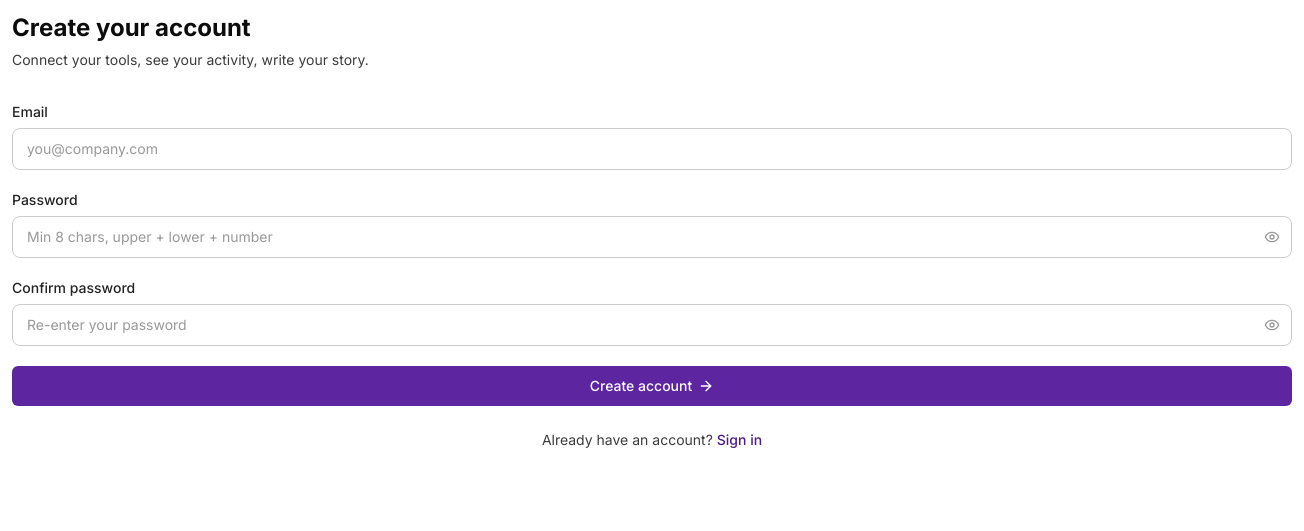
Test case: RegisterPage › Client-Side Validation › shows error when password is too short
This screenshot has width=1304, height=531.
In the field labelled "Email": (652, 149) [12, 128, 1292, 170], type "test@example.com"
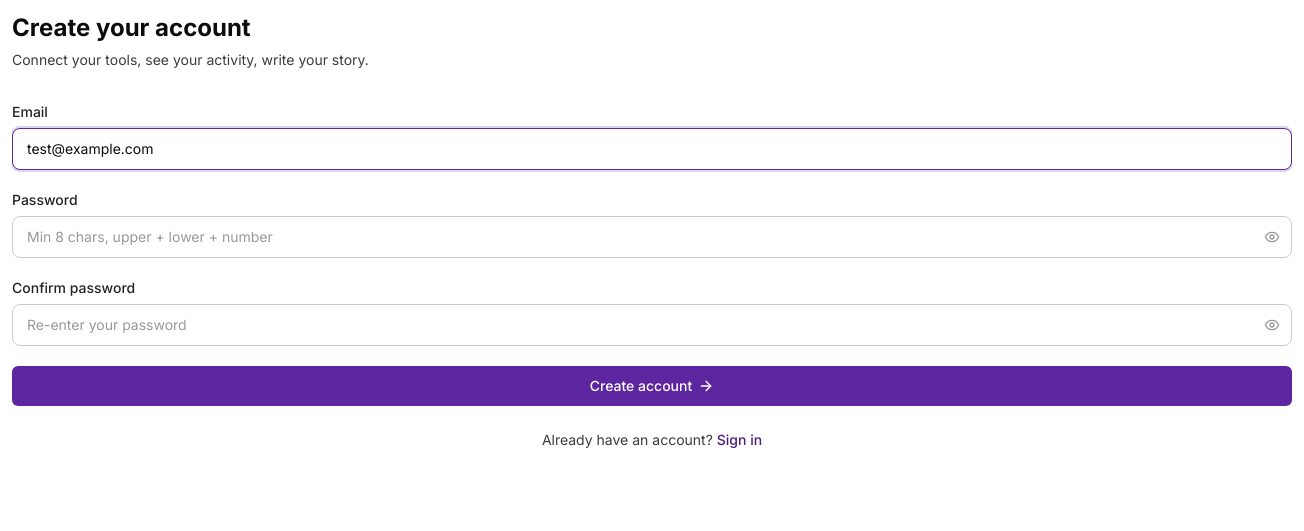
In the password field labelled "Password": (652, 237) [12, 216, 1292, 258], type "Abc1"
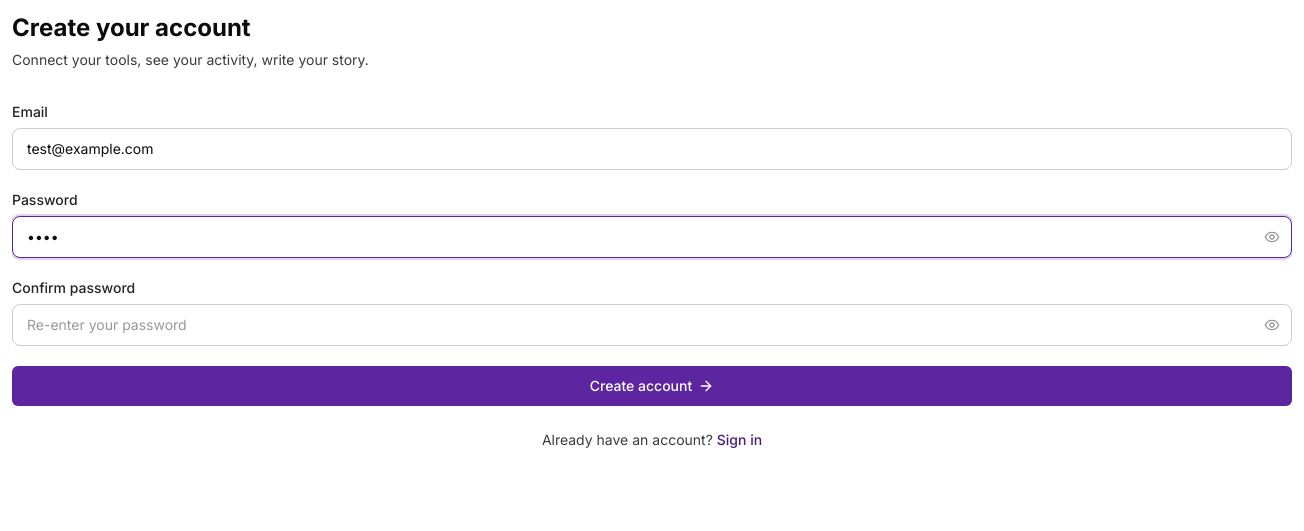
In the password field labelled "Confirm password": (652, 325) [12, 304, 1292, 346], type "Abc1"
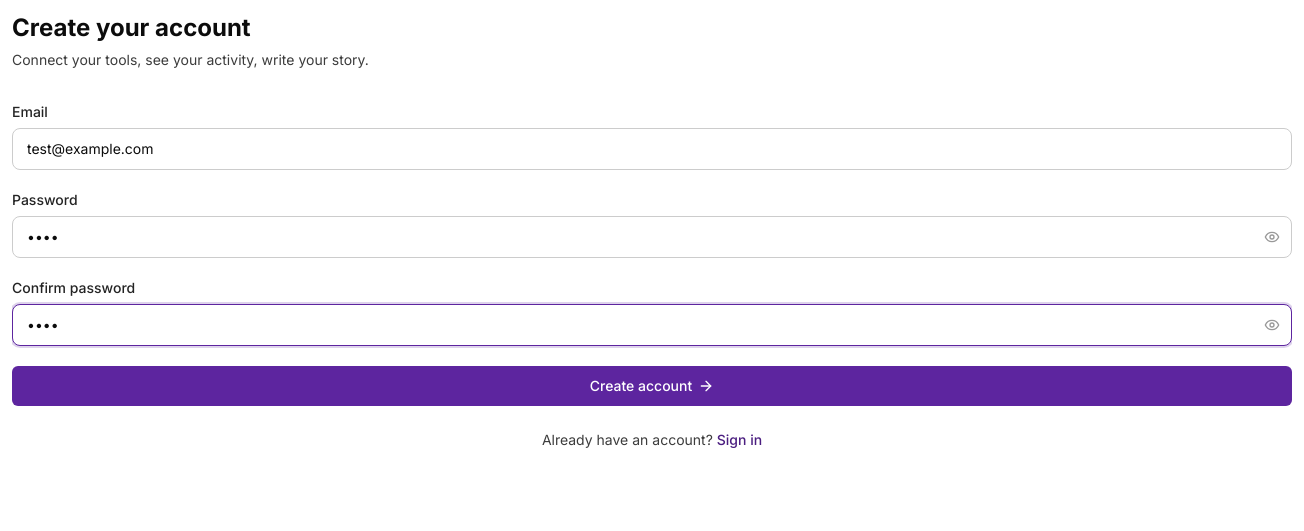
Click the button "Create account": click(652, 386) [12, 366, 1292, 406]
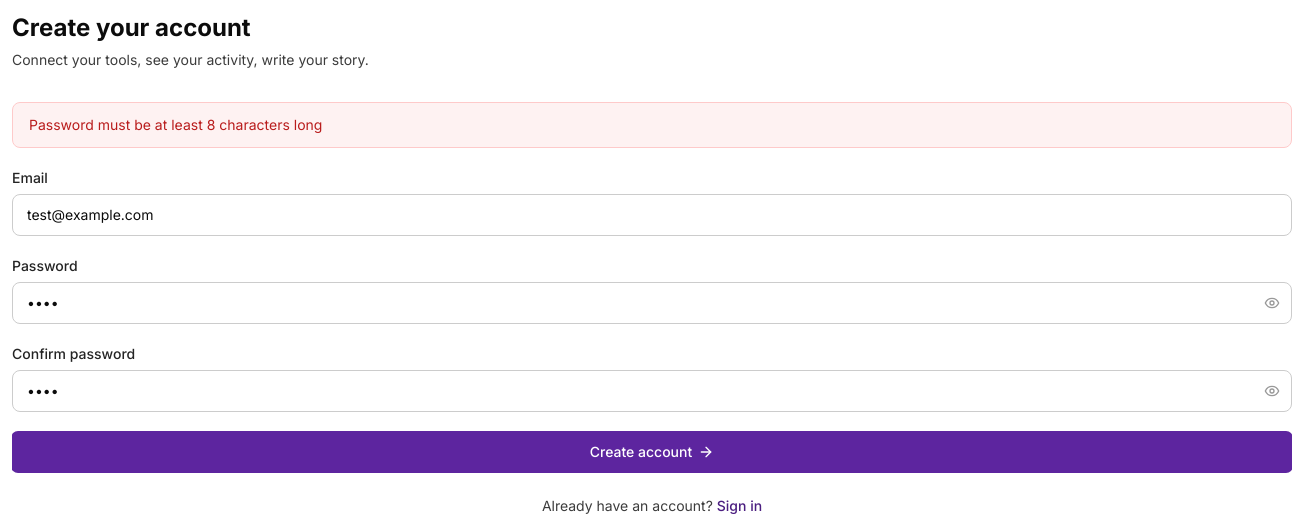
Expected: the text "Password must be at least 8 characters long" is shown, [29, 116, 322, 133]
